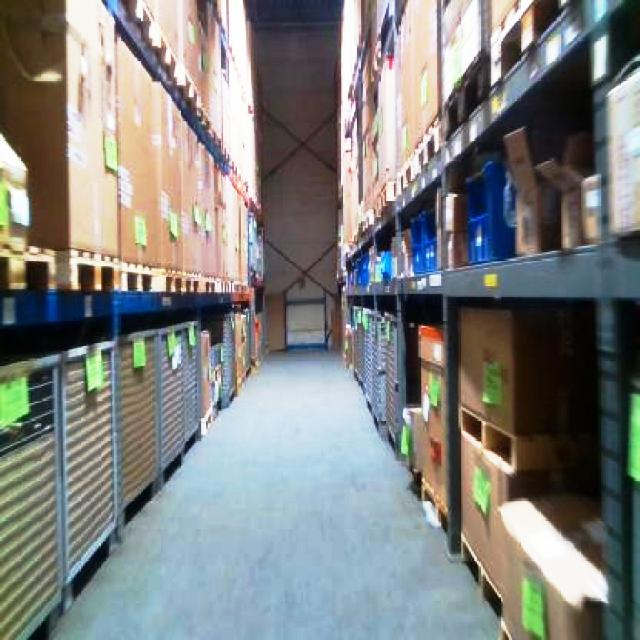ground: (20, 343, 514, 638)
pallet: (335, 0, 638, 638), (0, 309, 258, 638), (449, 300, 605, 638), (494, 492, 609, 638), (455, 403, 583, 475), (412, 323, 451, 540)
